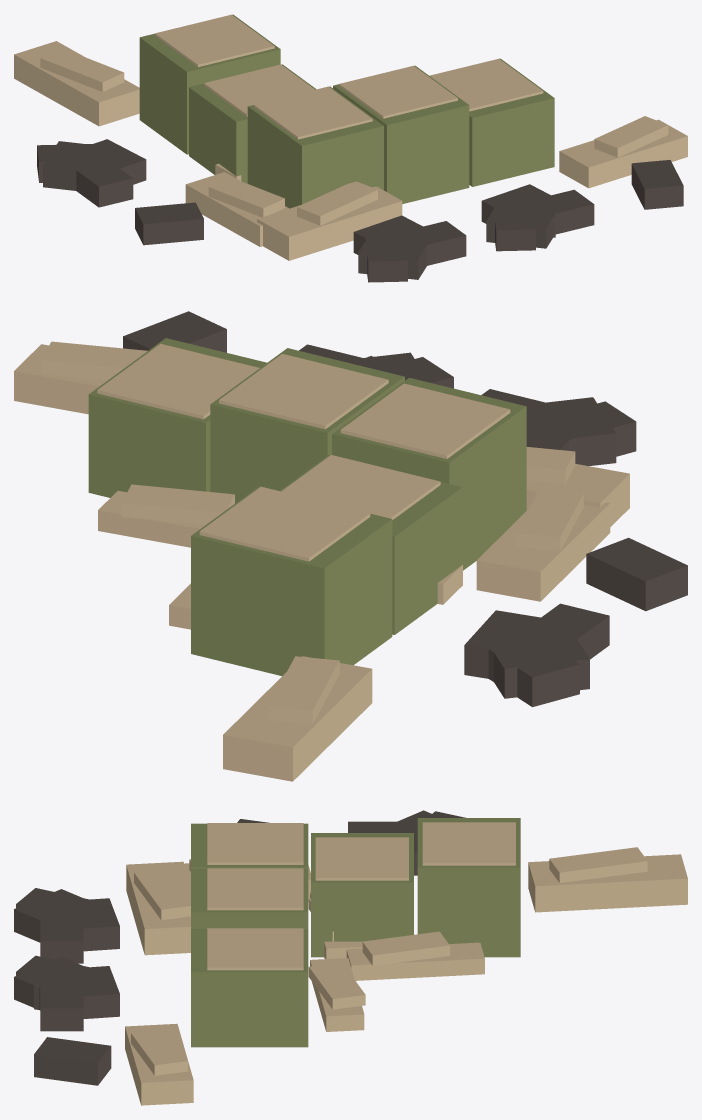
The model's file is SM_HescoEsquina_v2_Escalonado_e2_MuyDanado_LOD1.fbx.
3 views of the same model, one above another, from view 1: azimuth 30°, elevation 25°; view 2: azimuth 150°, elevation 25°; view 3: azimuth 270°, elevation 25° (orthographic). The views are drawn at different scales.
Visible parts, largest first — view 1: SM_hesco_piezas_v10_LOD1; view 2: SM_hesco_piezas_v10_LOD1; view 3: SM_hesco_piezas_v10_LOD1.
Part boxes in pixels (x1,y1,x2,y2): SM_hesco_piezas_v10_LOD1: (14, 14, 687, 282); SM_hesco_piezas_v10_LOD1: (14, 311, 687, 781); SM_hesco_piezas_v10_LOD1: (14, 810, 687, 1105).
Size of the model in its own units: 6.71 by 1.06 by 7.01.
